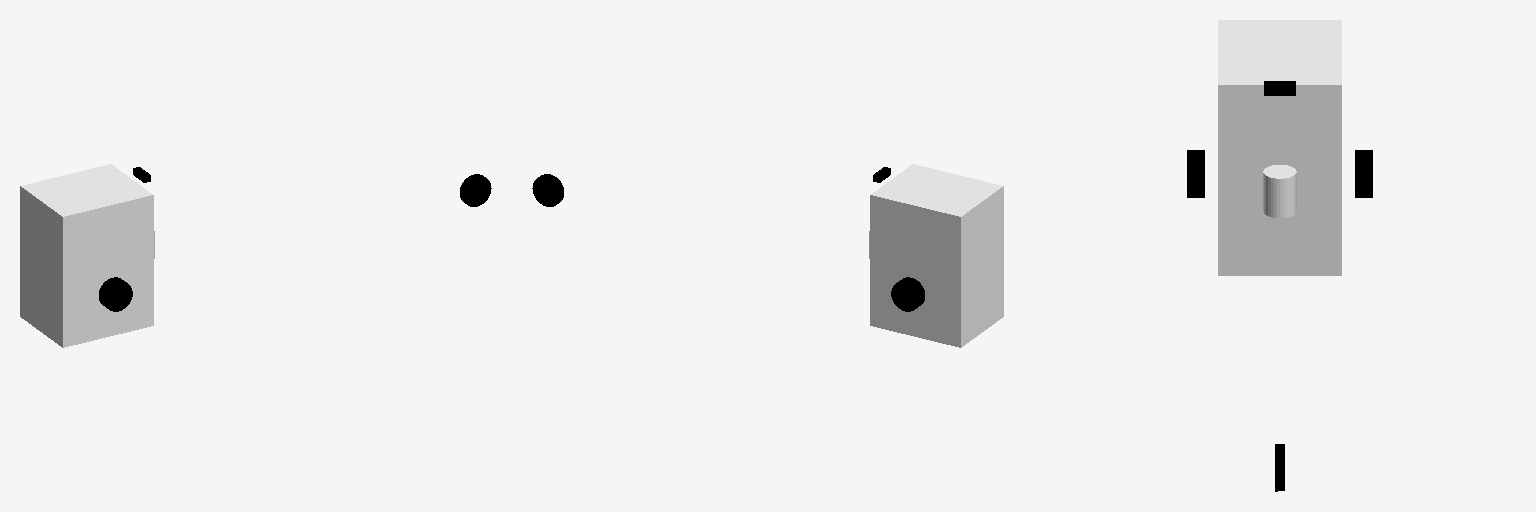
URDF robot description (orange_on_wheels):
<robot name="orange_on_wheels">

	<link name="base_link">
		<visual>
			<geometry>
				<box size="0.21 0.17 0.29"/>
			</geometry>
			<origin rpy="0 0 0" xyz="0 0 0.085"/>
			<material name="white">
				<color rgba="1 1 1 1"/>
			</material>
		</visual>
	</link>

	<link name="lwheel">
		<visual>
			<geometry>
				<cylinder length="0.025" radius="0.0325"/>
			</geometry>
			<origin rpy="0 0 0" xyz="0 0 0"/>
			<material name="black">
				<color rgba="0 0 0 1"/>
			</material>
		</visual>
	</link>

	<joint name="base_to_lwheel" type="fixed">
		<parent link="base_link"/>
		<child link="lwheel"/>
		<origin xyz="0 0.115 0.046" rpy="1.5708 0 0"/>
	</joint>

	<link name="rwheel">
		<visual>
			<geometry>
				<cylinder length="0.025" radius="0.0325"/>
			</geometry>
			<origin rpy="0 0 0" xyz="0 0 0"/>
			<material name="black">
				<color rgba="0 0 0 1"/>
			</material>
		</visual>
	</link>

	<joint name="base_to_rwheel" type="fixed">
		<parent link="base_link"/>
		<child link="rwheel"/>
		<origin xyz="0 -0.115 0.046" rpy="-1.5708 0 0"/>
	</joint>

	<link name="fwheel_attach">
		<visual>
			<geometry>
				<cylinder length="0.060" radius="0.023"/>
			</geometry>
			<origin rpy="0 0 0" xyz="0.13 0 0.08"/>
			<material name="white">
				<color rgba="1 1 1 1"/>
			</material>
		</visual>
	</link>

	<joint name="base_to_fattach" type="fixed">
		<parent link="base_link"/>
		<child link="fwheel_attach"/>
		<origin xyz="0 0 0" rpy="0 0 0"/>
	</joint>

	<link name="fwheel">
		<visual>
			<geometry>
				<cylinder length="0.014" radius="0.033"/>
			</geometry>
			<origin rpy="1.578 0 0" xyz="0 0 0"/>
			<material name="black">
				<color rgba="0 0 0 1"/>
			</material>
		</visual>
	</link>

	<joint name="base_to_fwheel" type="fixed">
		<parent link="base_link"/>
		<child link="fwheel"/>
		<origin xyz="0.9 0 0.02" rpy="0 0 0"/>
	</joint>

	<link name="scanner">
		<visual>
			<geometry>
				<box size="0.015 0.045 0.015"/>
			</geometry>
			<origin rpy="0 0 0" xyz="0.022 0 0.015"/>
			<material name="black">
				<color rgba="0 0 0 1"/>
			</material>
		</visual>
	</link>

	<joint name="base_to_scanner" type="fixed">
		<parent link="base_link"/>
		<child link="scanner"/>
		<origin xyz="0.105 0 0.22" rpy="0 0 0"/>
	</joint>

</robot>

--- Render facts (derived) ---
3 views of the same robot in one strip: view 1: azimuth 30°, elevation 25°; view 2: azimuth 150°, elevation 25°; view 3: azimuth 270°, elevation 25° (orthographic).
Robot: orange_on_wheels — 6 links, 5 joints (5 fixed); root link base_link; default pose: every joint at zero.
Visible links, largest first — view 1: base_link, rwheel, fwheel; view 2: base_link, lwheel, fwheel; view 3: base_link, fwheel_attach, lwheel, rwheel.
Boxes of the visible links, x1=… form: base_link: x1=20, y1=164, x2=153, y2=347; rwheel: x1=99, y1=277, x2=132, y2=311; fwheel: x1=460, y1=174, x2=491, y2=206; base_link: x1=870, y1=164, x2=1003, y2=347; lwheel: x1=891, y1=277, x2=924, y2=311; fwheel: x1=532, y1=174, x2=563, y2=206; base_link: x1=1218, y1=20, x2=1341, y2=275; fwheel_attach: x1=1263, y1=165, x2=1296, y2=217; lwheel: x1=1355, y1=150, x2=1372, y2=197; rwheel: x1=1187, y1=150, x2=1204, y2=197.
Size in the robot's own frame: 1.04 by 0.255 by 0.3025 metres.
Geometry: primitives only (box / cylinder / sphere), no mesh files.